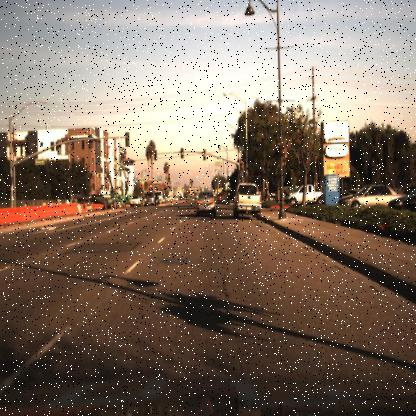car: (333, 180, 389, 215), (229, 170, 263, 224), (280, 179, 324, 209), (192, 188, 219, 221), (141, 190, 156, 209), (128, 194, 141, 207)
trafficLight-Yellow: (178, 146, 186, 164), (201, 144, 208, 162), (239, 160, 245, 172)
